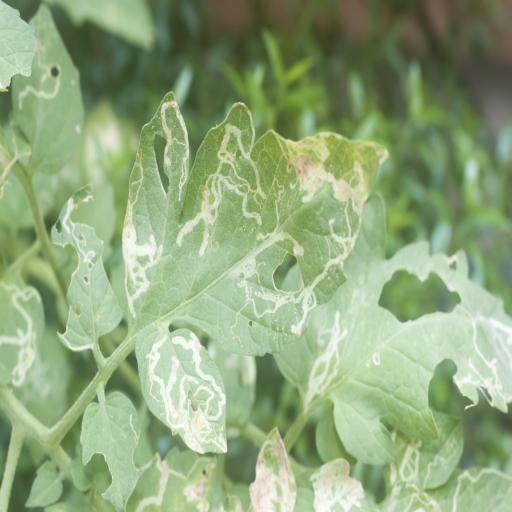Leaf Miner: (122, 87, 392, 457)
